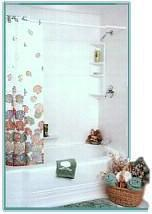Ducha: (94, 19, 126, 145)
